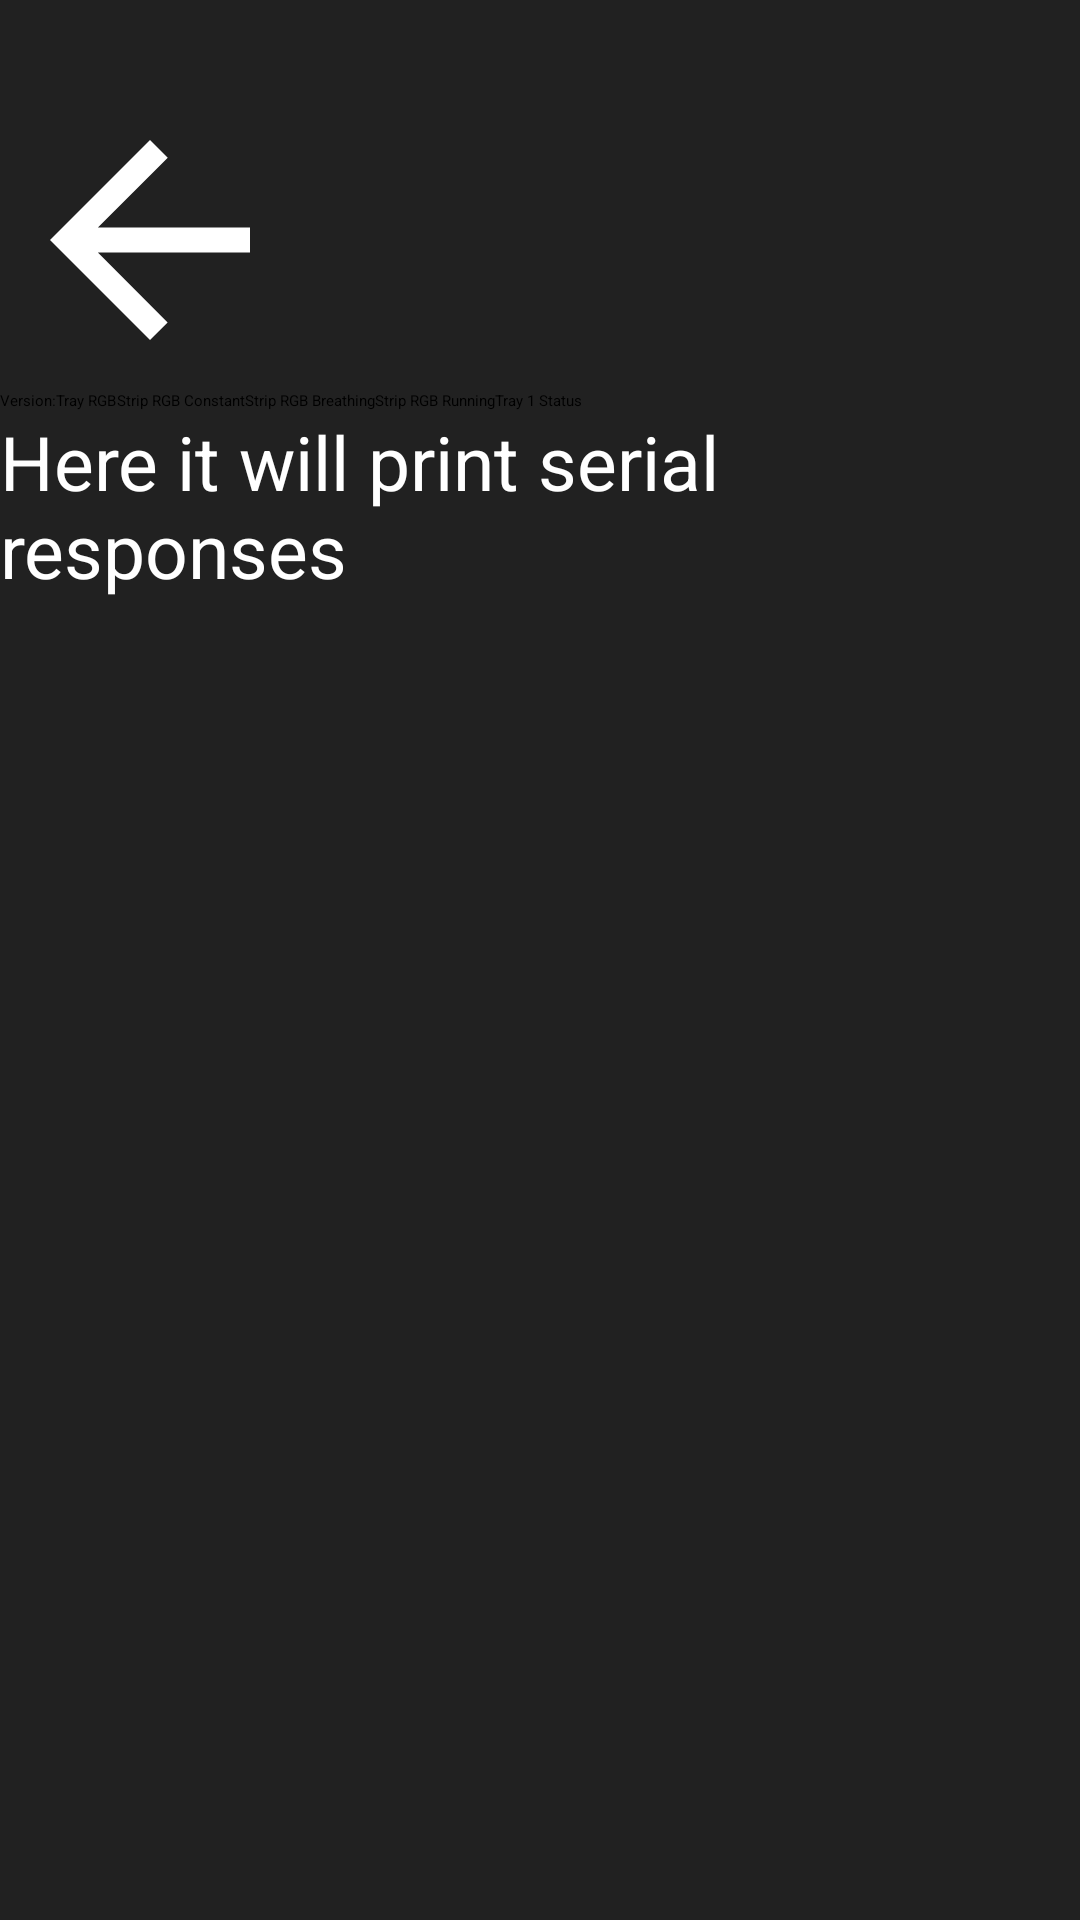

Where icons sit on this 1080x1920 app screen, as (x1, y1, x2, y2):
back: (50, 140, 250, 340)
